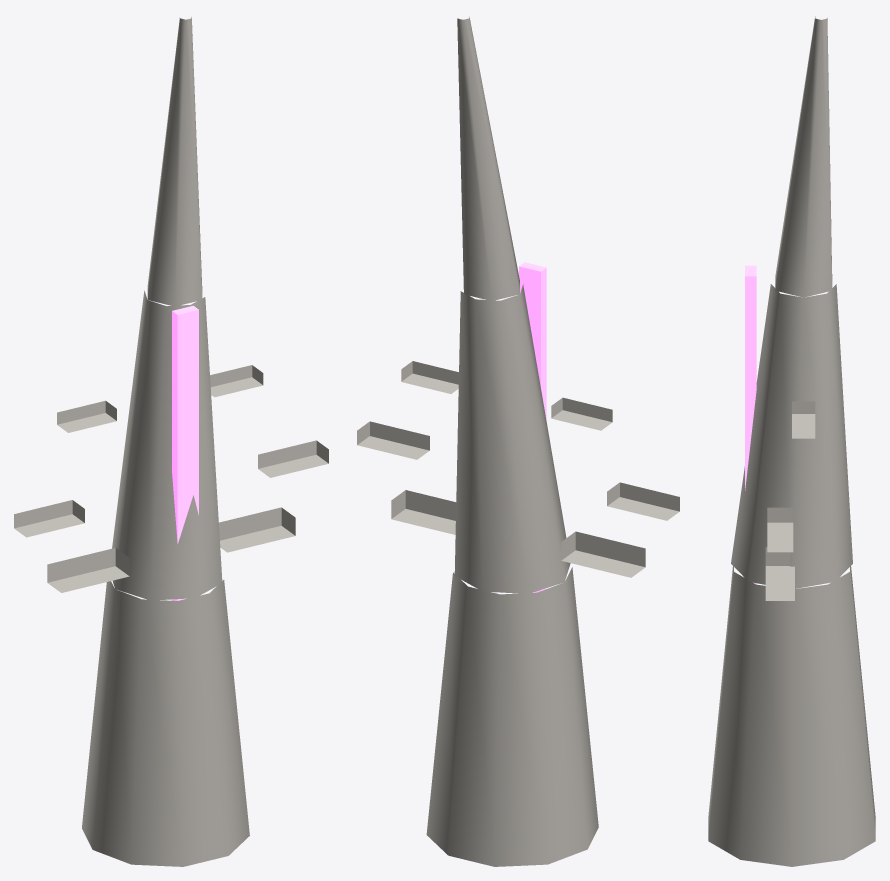
Rendered from undead_bone_spire.glb.
The picture shows the model from 3 angles, left to right: view 1: azimuth 30°, elevation 25°; view 2: azimuth 150°, elevation 25°; view 3: azimuth 270°, elevation 25°; orthographic projection. The views are drawn at different scales.
Visible parts, largest first — view 1: RootNode; view 2: RootNode; view 3: RootNode.
Part boxes in pixels (x1=…): RootNode: x1=14, y1=17, x2=328, y2=866; RootNode: x1=357, y1=17, x2=679, y2=866; RootNode: x1=708, y1=16, x2=875, y2=866.
Bounding box in the file's own units: 3.1 × 7.8 × 1.43.
